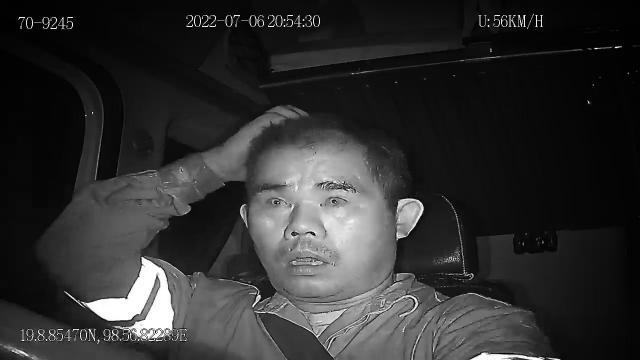SafeDriving: (313, 183, 355, 214), (259, 187, 299, 213)
Seatbelt: (225, 266, 338, 360)
